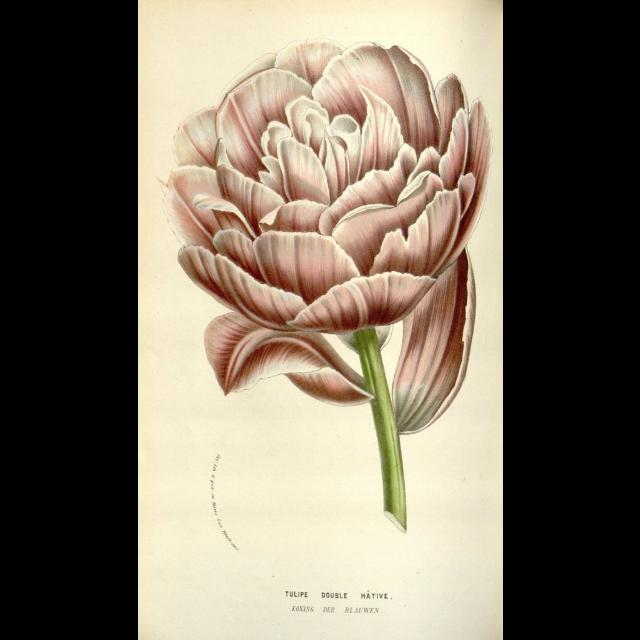Flower: (158, 29, 492, 494)
